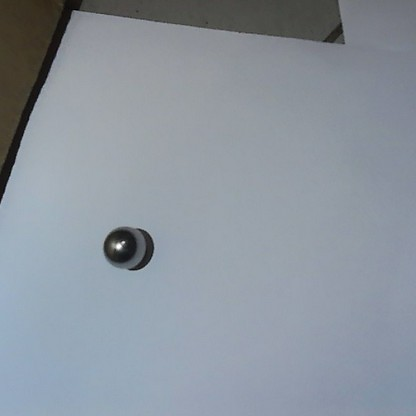ironball: (99, 219, 148, 271)
